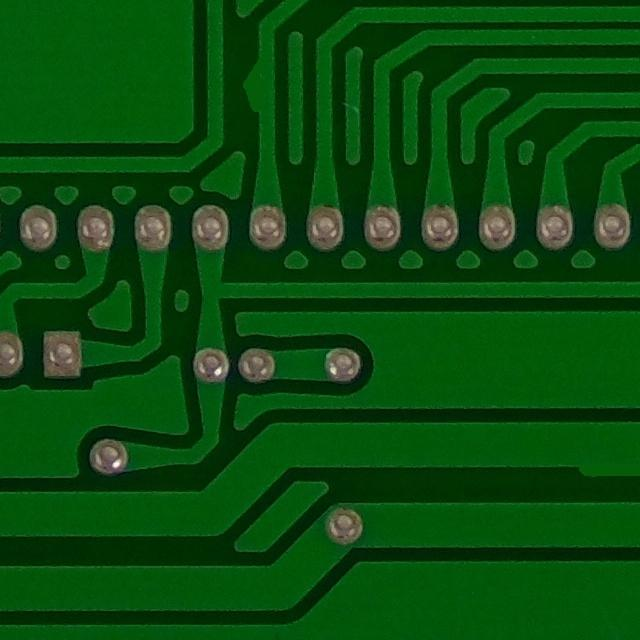spur: (563, 431, 640, 492), (224, 53, 275, 124)
